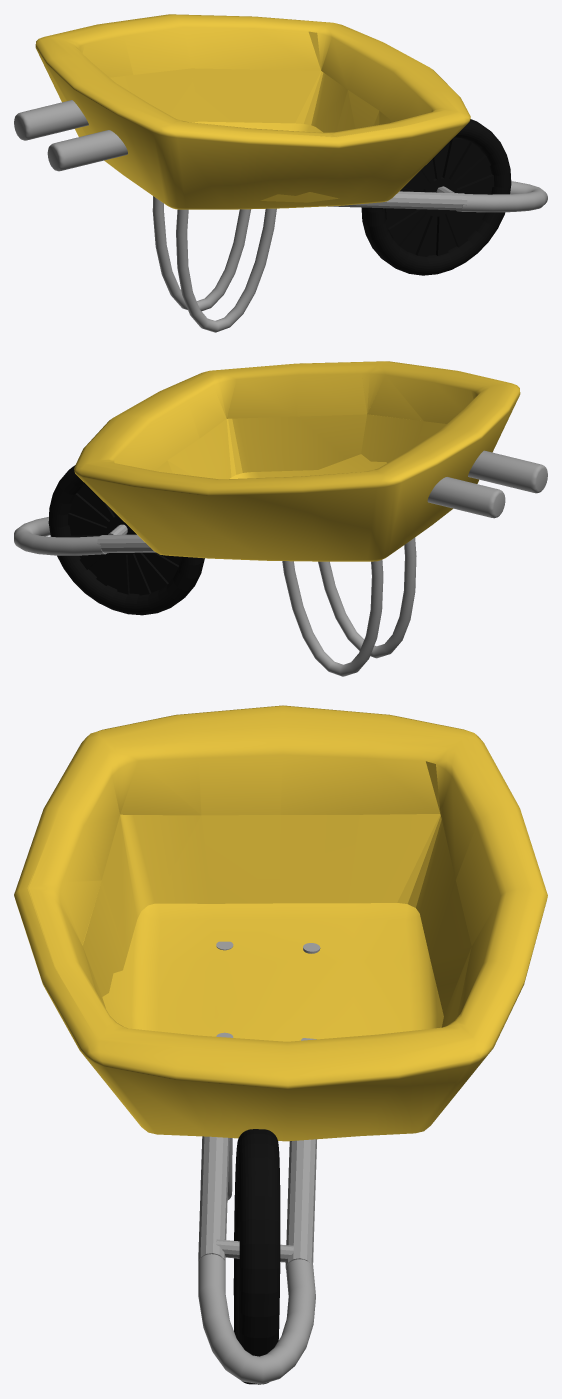
Rendered from Carretillo.glb.
The picture shows the model from 3 angles, top to bottom: view 1: azimuth 30°, elevation 25°; view 2: azimuth 150°, elevation 25°; view 3: azimuth 270°, elevation 25°; orthographic projection. The views are drawn at different scales.
Parts seen in each view (by area): view 1: Cube.004, Cylinder.003, BézierCurve.001, BézierCurve.002, Cylinder.009, Cylinder, BézierCurve, Cylinder.001; view 2: Cube.004, Cylinder.003, BézierCurve.002, BézierCurve.001, Cylinder.009, Cylinder, BézierCurve, Cylinder.002; view 3: Cube.004, Cylinder.003, BézierCurve, Cylinder.002, Cylinder.001.
Part boxes in pixels (left/top/right/bottom): Cube.004: left=35, top=14, right=470, bottom=209; Cylinder.003: left=361, top=119, right=511, bottom=275; BézierCurve.001: left=176, top=208, right=276, bottom=332; BézierCurve.002: left=152, top=196, right=250, bottom=311; Cylinder.009: left=47, top=130, right=127, bottom=171; Cylinder: left=14, top=100, right=88, bottom=140; BézierCurve: left=456, top=181, right=547, bottom=212; Cylinder.001: left=328, top=191, right=467, bottom=210; Cube.004: left=74, top=361, right=520, bottom=561; Cylinder.003: left=48, top=465, right=204, bottom=615; BézierCurve.002: left=282, top=560, right=383, bottom=676; BézierCurve.001: left=318, top=537, right=416, bottom=658; Cylinder.009: left=468, top=450, right=547, bottom=493; Cylinder: left=427, top=477, right=505, bottom=518; BézierCurve: left=14, top=517, right=106, bottom=555; Cylinder.002: left=97, top=534, right=155, bottom=553; Cube.004: left=14, top=705, right=547, bottom=1141; Cylinder.003: left=233, top=1129, right=280, bottom=1384; BézierCurve: left=198, top=1254, right=315, bottom=1384; Cylinder.002: left=285, top=1139, right=316, bottom=1269; Cylinder.001: left=198, top=1136, right=229, bottom=1262.
Bounding box in the file's own units: 2.05 × 1.04 × 1.24.
